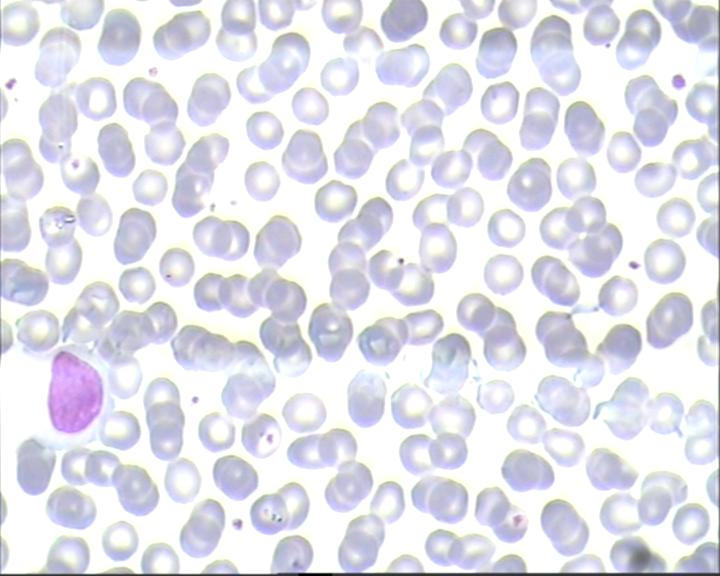mono: (34, 339, 113, 450)
